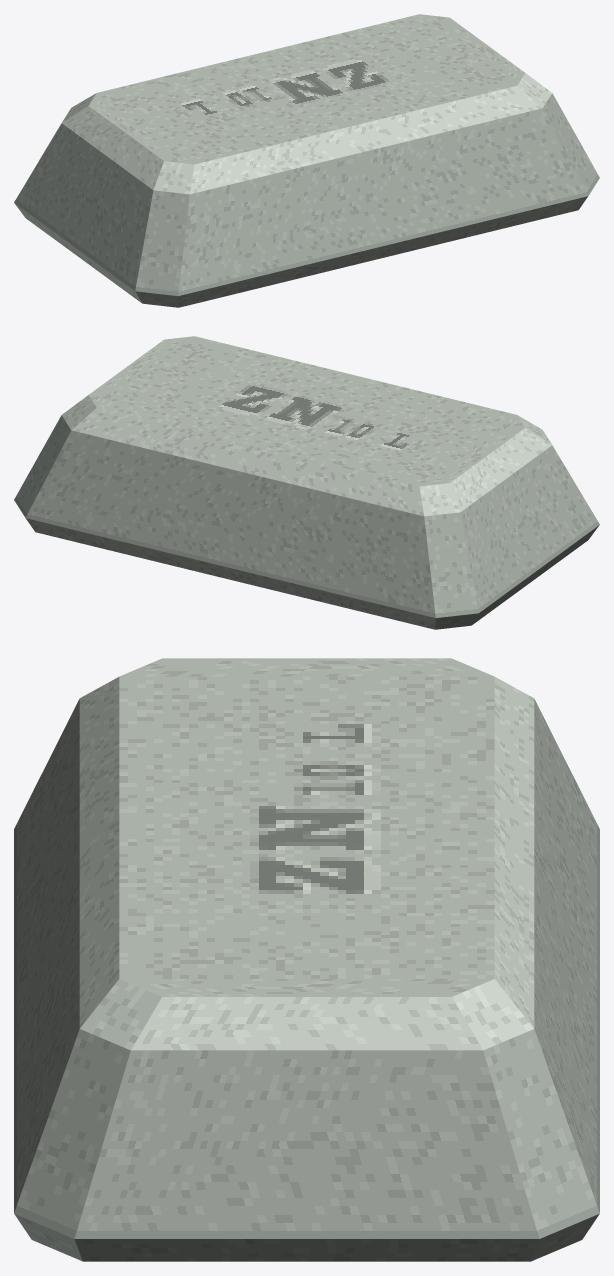
File: 10l_zinc.glb
3 renders of one model, top to bottom at view 1: azimuth 30°, elevation 25°; view 2: azimuth 150°, elevation 25°; view 3: azimuth 270°, elevation 25°, orthographic. The views are drawn at different scales.
Visible parts, largest first — view 1: block_one-piece cast ingot; view 2: block_one-piece cast ingot; view 3: block_one-piece cast ingot.
Part boxes in pixels (x1=…): block_one-piece cast ingot: x1=14, y1=14, x2=599, y2=307; block_one-piece cast ingot: x1=14, y1=336, x2=599, y2=629; block_one-piece cast ingot: x1=14, y1=658, x2=599, y2=1261.
Bounding box in the file's own units: 0.39 × 0.0939 × 0.2218.
1 material, 1 textured.
